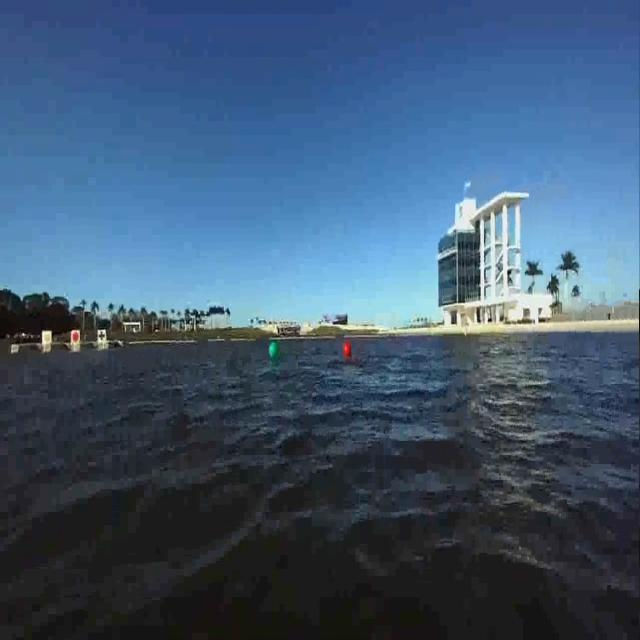green-buoy: (268, 340, 277, 359)
red-buoy: (342, 340, 351, 359)
